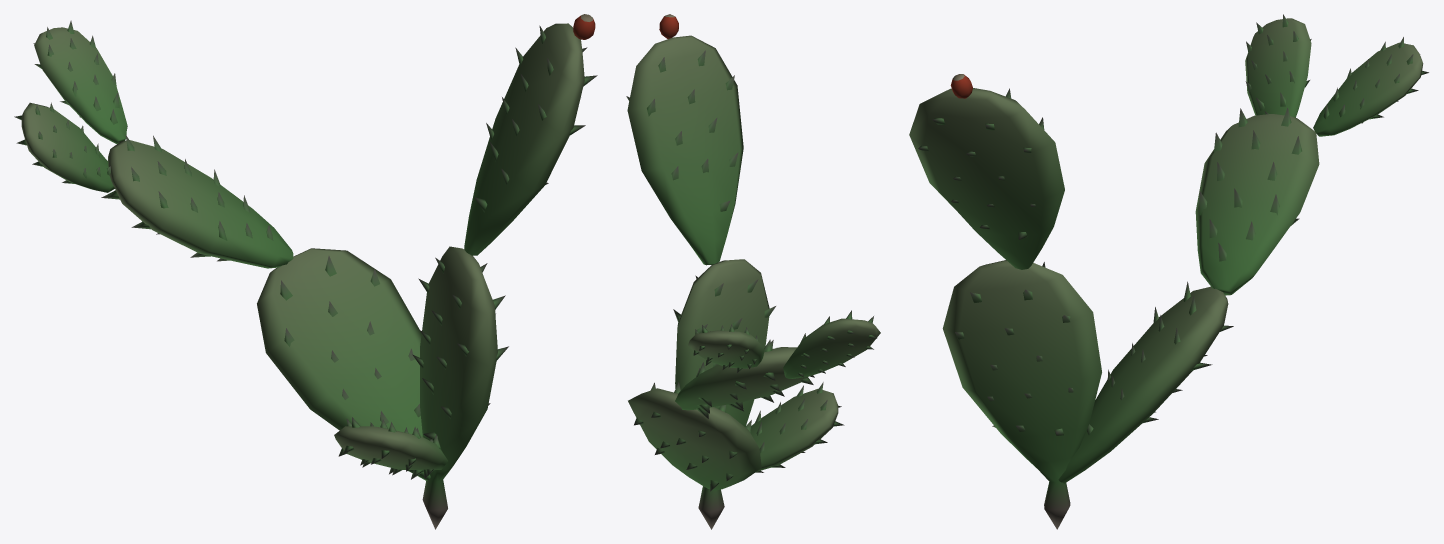
File: plants-cacti-succulents-prickly-pear_v3.glb
3 renders of one model, left to right at view 1: azimuth 30°, elevation 25°; view 2: azimuth 150°, elevation 25°; view 3: azimuth 270°, elevation 25°, orthographic. The views are drawn at different scales.
Parts seen in each view (by area): view 1: Prickly Pear_v3; view 2: Prickly Pear_v3; view 3: Prickly Pear_v3.
Part boxes in pixels (x1=…): Prickly Pear_v3: x1=14, y1=14, x2=597, y2=529; Prickly Pear_v3: x1=626, y1=14, x2=880, y2=529; Prickly Pear_v3: x1=909, y1=14, x2=1428, y2=529.
Bounding box in the file's own units: 0.8326 × 1 × 0.9414.
